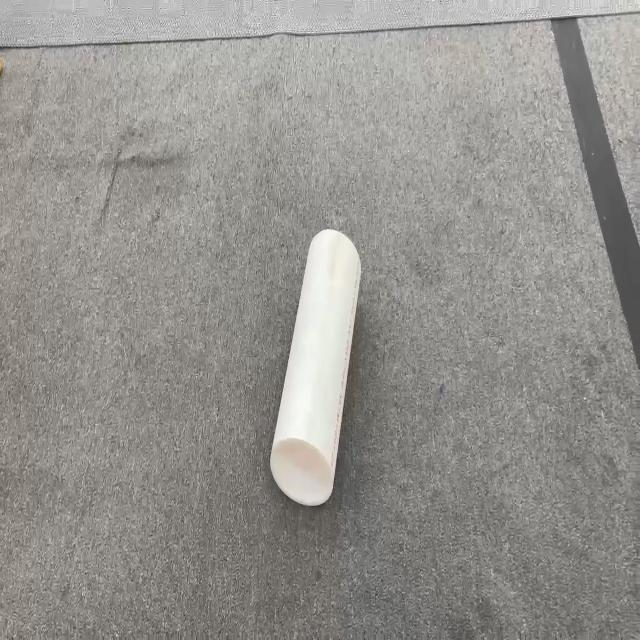coral: (268, 226, 362, 506)
